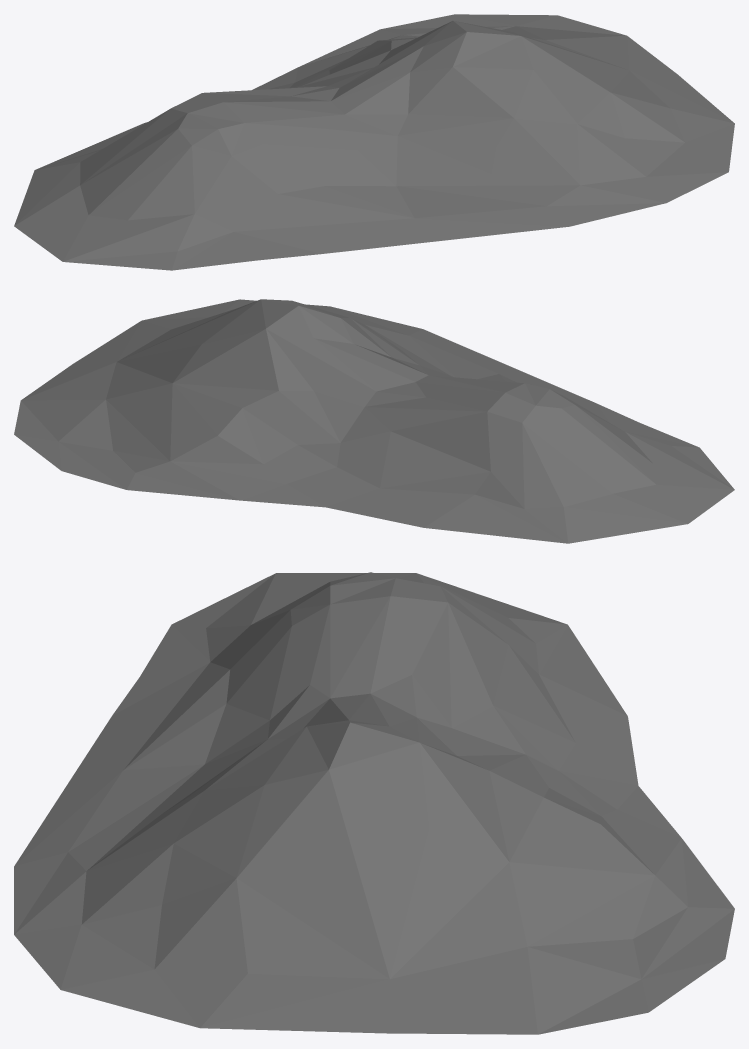
The model's file is SM_Gen_Env_Hill_02.glb.
The picture shows the model from 3 angles, top to bottom: view 1: azimuth 30°, elevation 25°; view 2: azimuth 150°, elevation 25°; view 3: azimuth 270°, elevation 25°; orthographic projection. The views are drawn at different scales.
Visible parts, largest first — view 1: SM_Gen_Env_Hill_02; view 2: SM_Gen_Env_Hill_02; view 3: SM_Gen_Env_Hill_02.
Part boxes in pixels (x1,y1,x2,y2): SM_Gen_Env_Hill_02: (14, 14, 734, 270); SM_Gen_Env_Hill_02: (14, 299, 734, 543); SM_Gen_Env_Hill_02: (14, 572, 734, 1034).
Bounding box in the file's own units: 42.97 × 6.66 × 28.37.
1 material, 1 textured.
